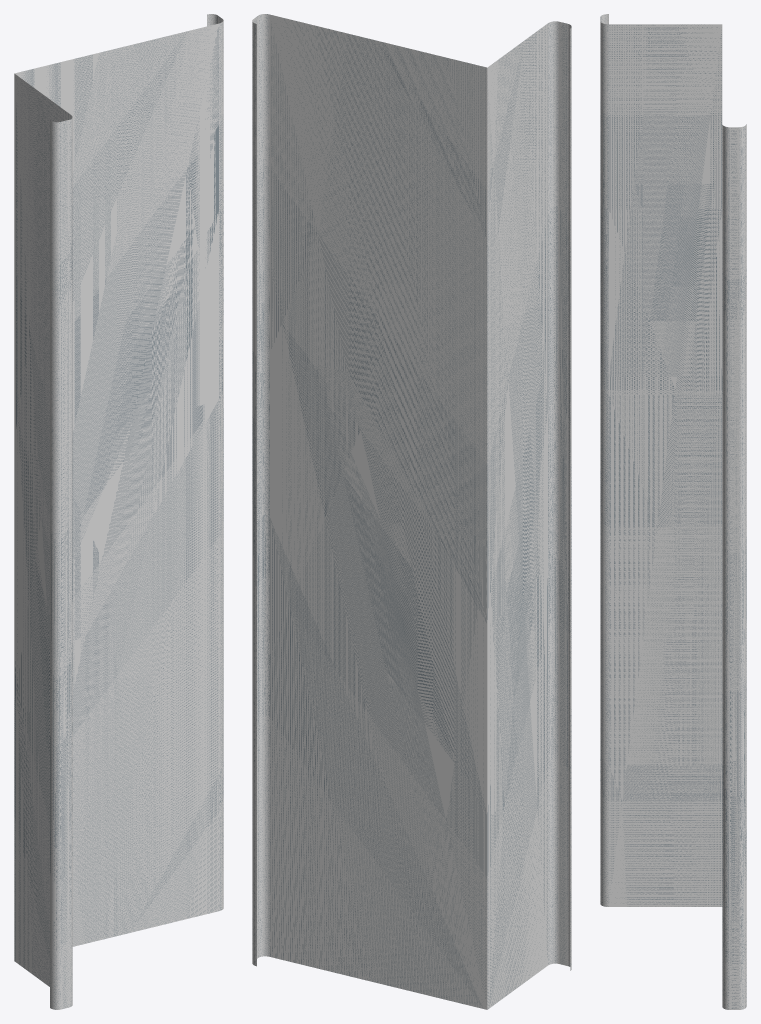
The model's file is PW_CornerFixElem_os_T2_060x110x010x400.dae.
The picture shows the model from 3 angles, left to right: view 1: azimuth 30°, elevation 25°; view 2: azimuth 150°, elevation 25°; view 3: azimuth 270°, elevation 25°; orthographic projection. The views are drawn at different scales.
Visible parts, largest first — view 1: group_0; view 2: group_0; view 3: group_0.
Part boxes in pixels (<box>): group_0: <box>14,14,223,1009</box>; group_0: <box>252,14,571,1009</box>; group_0: <box>600,14,746,1009</box>.
Bounding box in the file's own units: 43.31 × 23.62 × 157.
